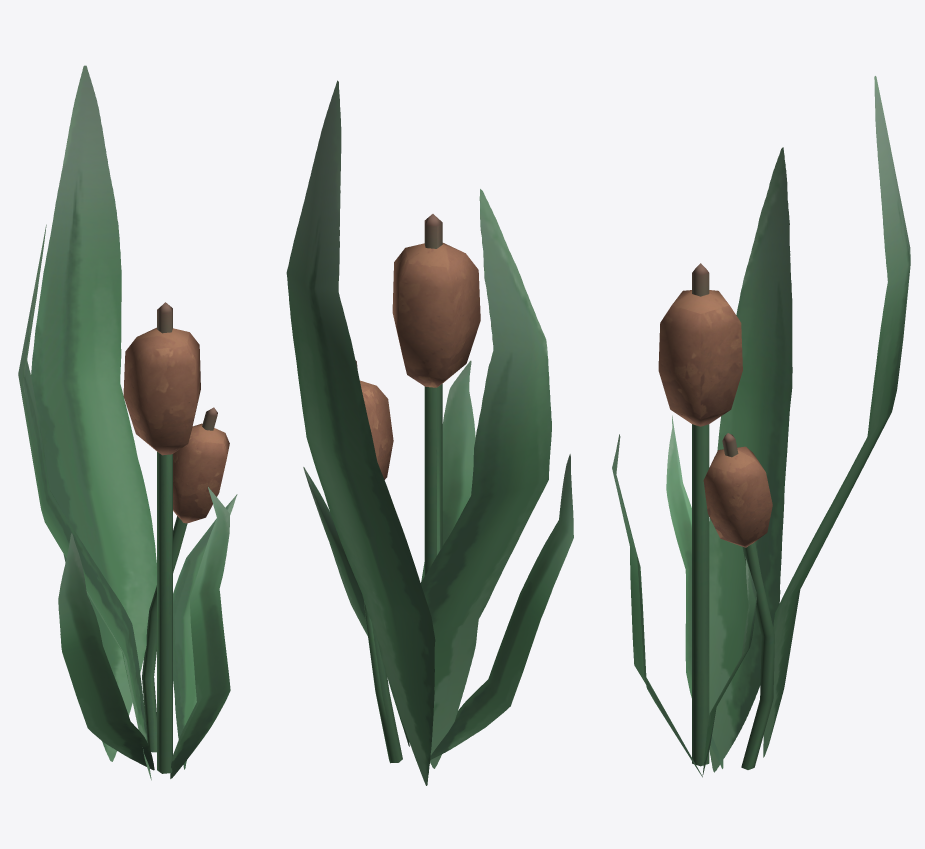
The model's file is SM_Diorama_Reed_002.fbx.
3 renders of one model, left to right at view 1: azimuth 30°, elevation 25°; view 2: azimuth 150°, elevation 25°; view 3: azimuth 270°, elevation 25°, orthographic. The views are drawn at different scales.
Visible parts, largest first — view 1: pCylinder16; view 2: pCylinder16; view 3: pCylinder16.
Part boxes in pixels (bbox=[...]): pCylinder16: bbox=[18, 65, 237, 780]; pCylinder16: bbox=[286, 80, 573, 785]; pCylinder16: bbox=[612, 76, 910, 777].
Size of the model in its own units: 50.88 by 159 by 54.45.
